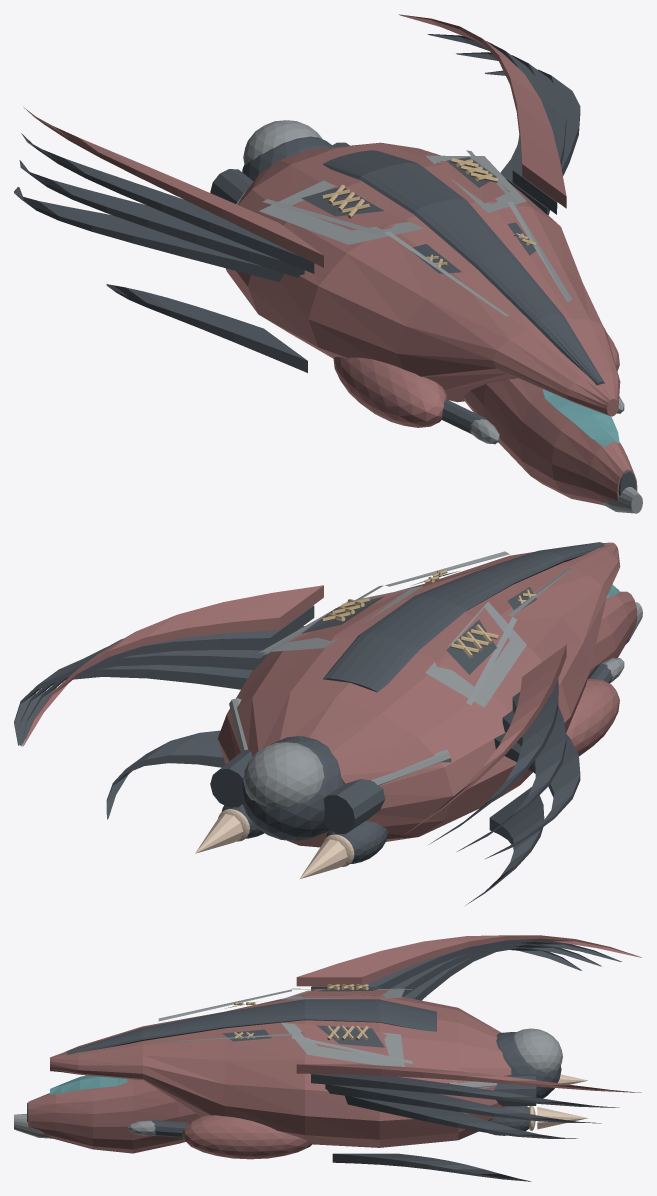
The model's file is thrill_red_flight.glb.
3 renders of one model, top to bottom at view 1: azimuth 30°, elevation 25°; view 2: azimuth 150°, elevation 25°; view 3: azimuth 270°, elevation 25°, orthographic. The views are drawn at different scales.
Parts seen in each view (by area): view 1: hull_0, hull_1, hull_2, wing_R_pivot_blade0, wing_L_pivot_blade0, wing_L_pivot_blade2, wing_L_pivot_blade1, wing_L_pivot_blade3, fin_L_pivot_blade1, wing_R_pivot_blade1, hull_3, wing_R_pivot_blade2 (+2 smaller); view 2: hull_0, hull_1, hull_2, wing_R_pivot_blade0, wing_R_pivot_blade1, wing_R_pivot_blade3, wing_L_pivot_blade0, wing_R_pivot_blade2, hull_5, fin_R_pivot_blade1, fin_L_pivot_blade1, wing_L_pivot_blade1 (+3 smaller); view 3: hull_0, hull_1, hull_2, wing_L_pivot_blade0, wing_R_pivot_blade1, wing_R_pivot_blade0, wing_R_pivot_blade2, wing_R_pivot_blade3, fin_R_pivot_blade1, wing_L_pivot_blade1, wing_L_pivot_blade2, wing_L_pivot_blade3 (+3 smaller).
Boxes of the visible parts, box(x1,y1,x2,y2) form: hull_0: box(225, 142, 637, 505); hull_1: box(210, 136, 636, 495); hull_2: box(236, 120, 642, 513); wing_R_pivot_blade0: box(399, 14, 566, 208); wing_L_pivot_blade0: box(23, 107, 323, 267); wing_L_pivot_blade2: box(19, 160, 304, 277); wing_L_pivot_blade1: box(21, 133, 314, 273); wing_L_pivot_blade3: box(14, 187, 284, 282); fin_L_pivot_blade1: box(106, 284, 307, 372); wing_R_pivot_blade1: box(427, 34, 558, 214); hull_3: box(542, 389, 619, 447); wing_R_pivot_blade2: box(456, 52, 566, 214); hull_0: box(217, 542, 637, 847); hull_1: box(210, 542, 612, 863); hull_2: box(229, 551, 642, 808); wing_R_pivot_blade0: box(22, 585, 323, 746); wing_R_pivot_blade1: box(21, 605, 314, 746); wing_R_pivot_blade3: box(14, 660, 252, 745); wing_L_pivot_blade0: box(400, 644, 566, 837); wing_R_pivot_blade2: box(19, 626, 304, 745); hull_5: box(195, 809, 354, 879); fin_R_pivot_blade1: box(106, 730, 225, 819); fin_L_pivot_blade1: box(465, 787, 544, 905); wing_L_pivot_blade1: box(428, 679, 558, 844); hull_0: box(28, 989, 511, 1159); hull_1: box(27, 986, 561, 1137); hull_2: box(14, 988, 562, 1138); wing_L_pivot_blade0: box(296, 935, 641, 986); wing_R_pivot_blade1: box(311, 1074, 619, 1107); wing_R_pivot_blade0: box(296, 1064, 641, 1092); wing_R_pivot_blade2: box(325, 1084, 601, 1123); wing_R_pivot_blade3: box(345, 1095, 577, 1138); fin_R_pivot_blade1: box(332, 1153, 531, 1181); wing_L_pivot_blade1: box(311, 939, 621, 990); wing_L_pivot_blade2: box(390, 943, 601, 996); wing_L_pivot_blade3: box(404, 946, 581, 1000).
Size of the model in its own units: 3.07 by 1.12 by 4.39.
